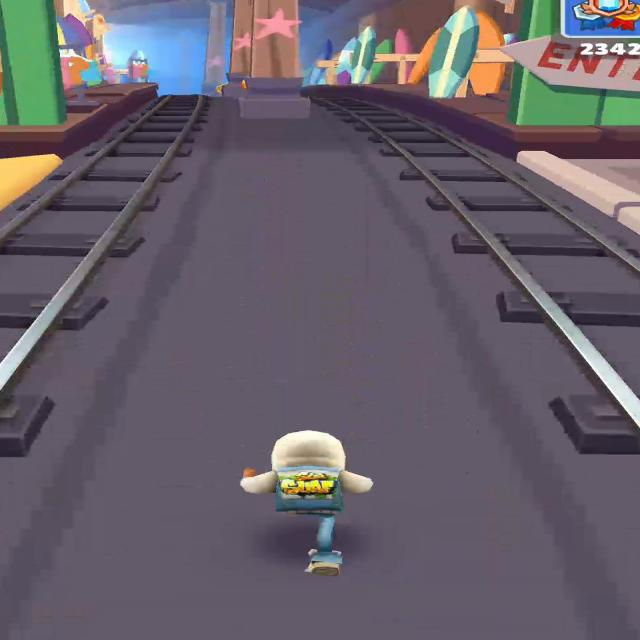block pillar: (239, 0, 309, 119), (201, 2, 226, 96), (229, 0, 253, 80)
